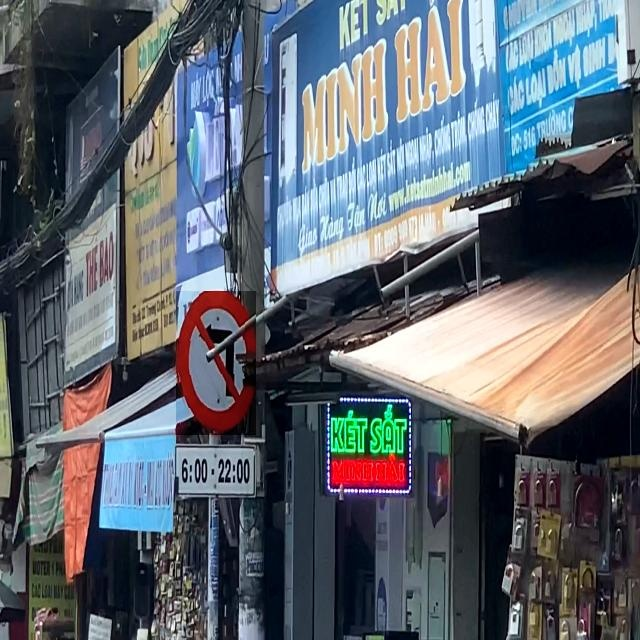bien_cam: (176, 292, 256, 436)
